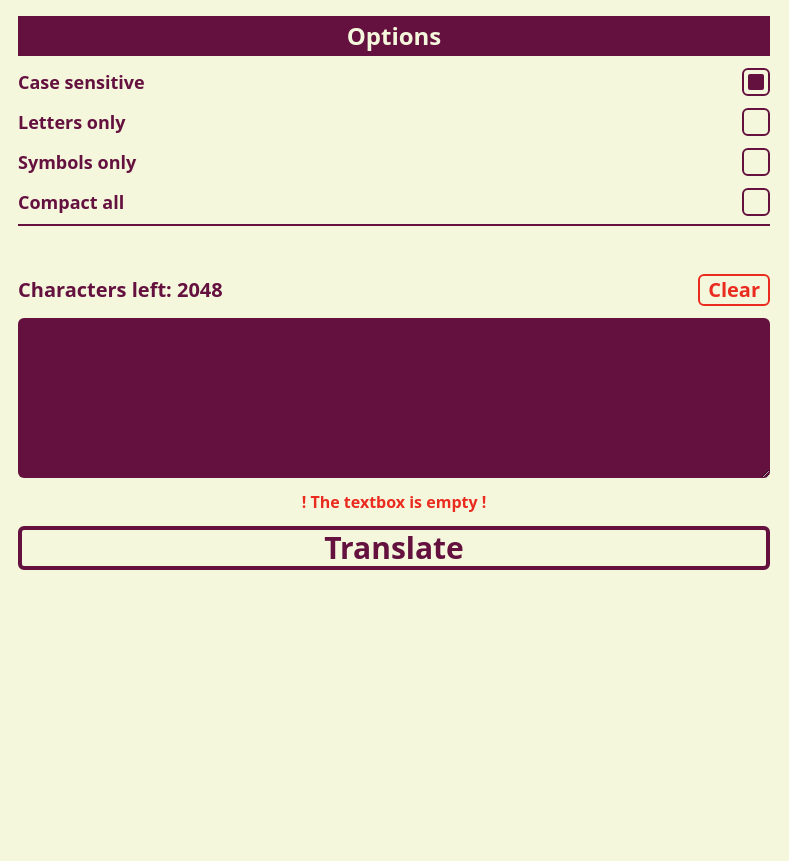
Test: App › should calculate the number of each letter when the lettersOnly is checked
Click the checkbox named "Letters only" in the row of "Letters only": {"x": 756, "y": 122} [742, 108, 770, 136]
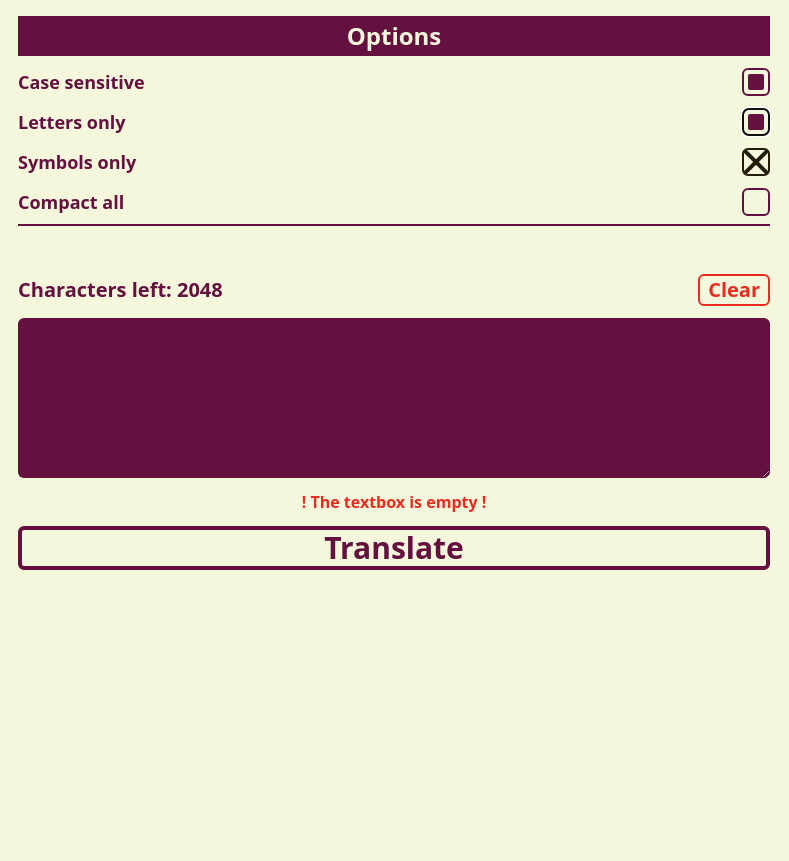
In the text box: {"x": 394, "y": 398} [18, 318, 770, 478], type "test message"
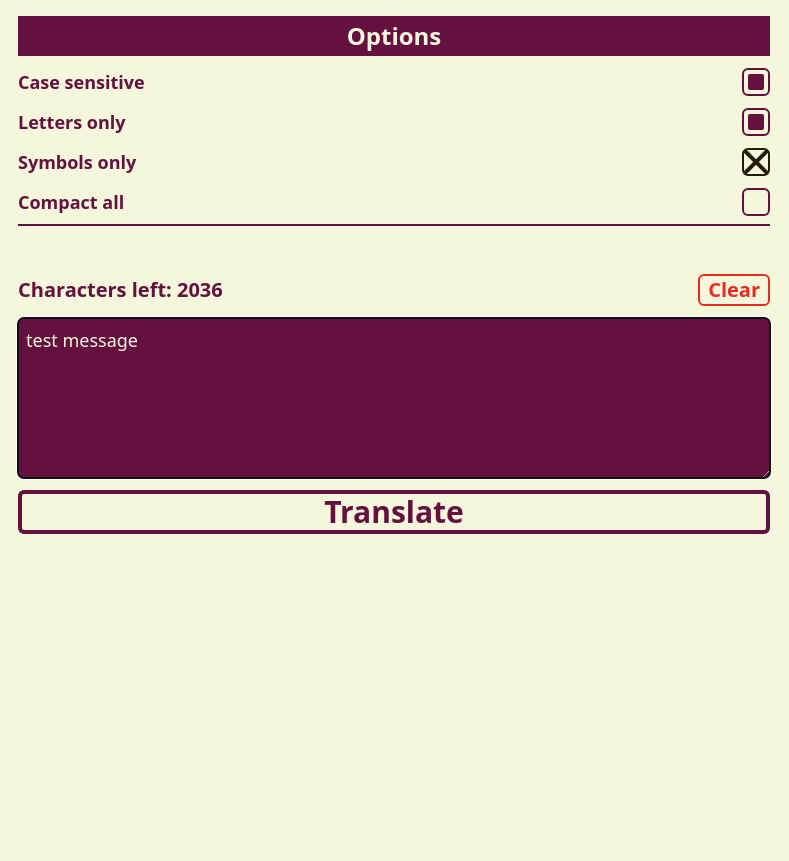
Click the button "Translate": {"x": 394, "y": 512} [18, 490, 770, 534]
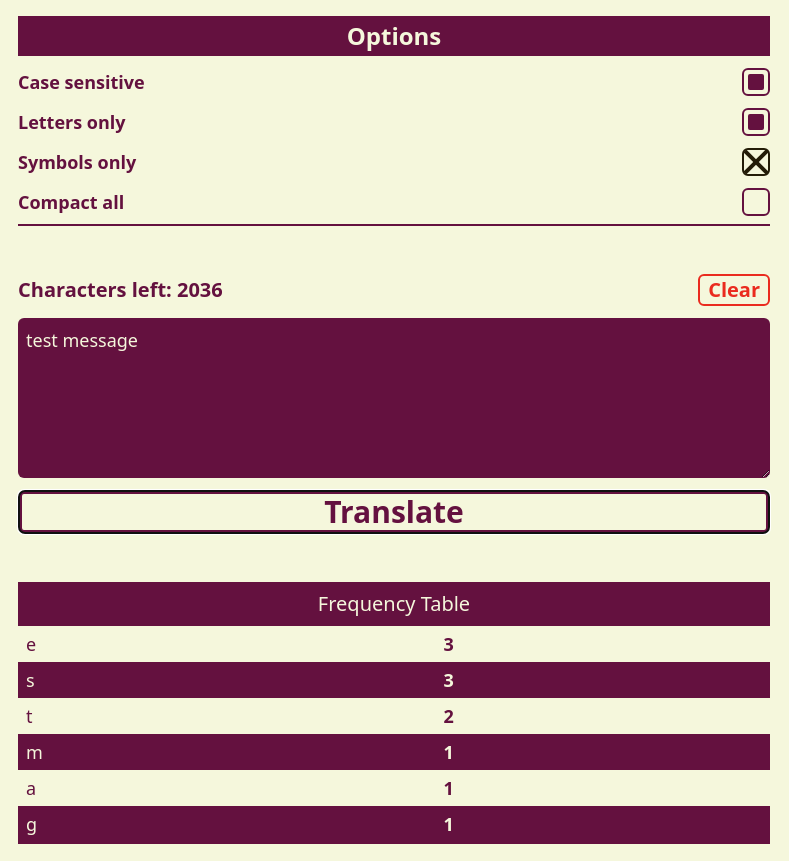
Expected: the number of rows is 6, [18, 626, 770, 662]; [18, 662, 770, 698]; [18, 698, 770, 734]; [18, 734, 770, 770]; [18, 770, 770, 806]; [18, 806, 770, 843]
Expected: the row "t 2" is shown, [18, 698, 770, 734]
Expected: the row "e 3" is shown, [18, 626, 770, 662]
